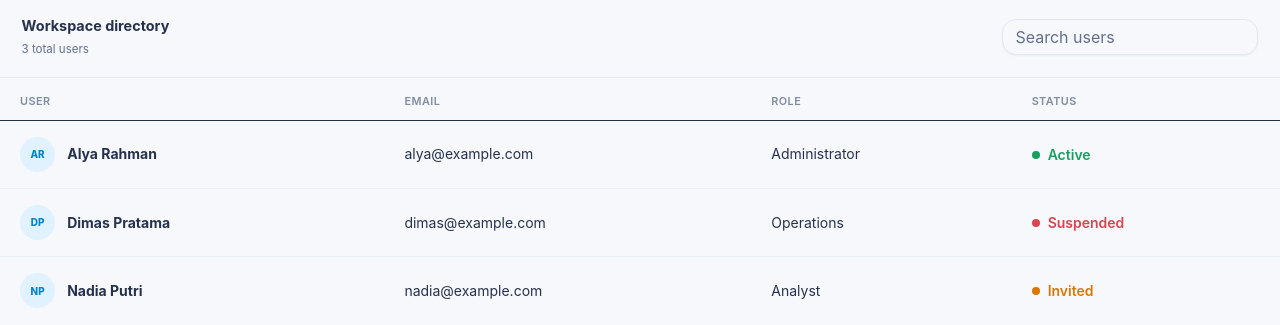
UsersDirectory › filters users by name
In the search field labelled "Search users": (1130,37) [1002,19,1258,55], type "nadia"
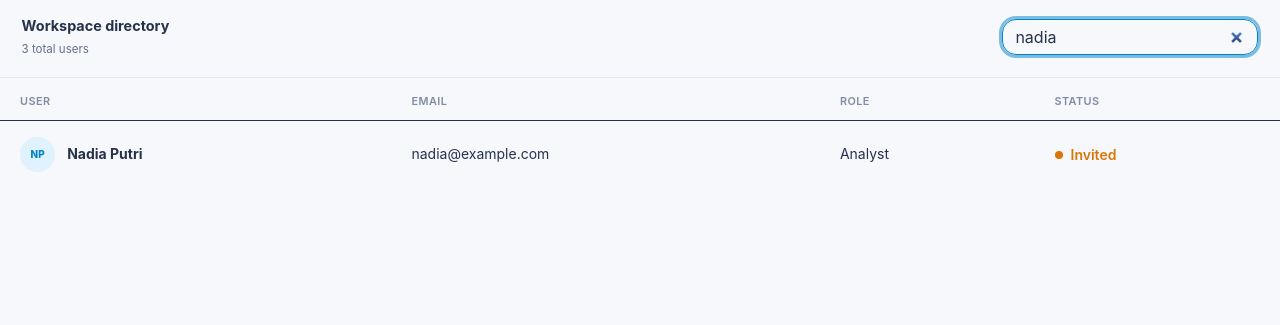
Expected: the cell "Nadia Putri" is shown, [0,121,391,188]
Result: the text "Alya Rahman" is gone
